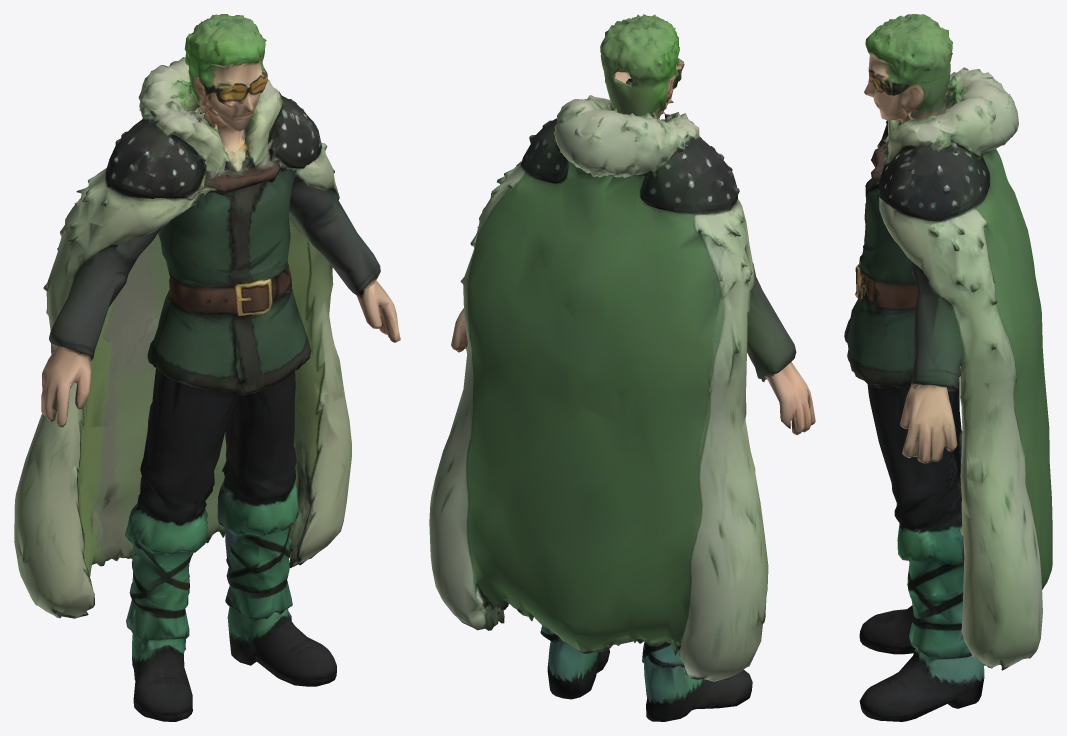
The model's file is zoro-elbaf.opt.glb.
The picture shows the model from 3 angles, left to right: view 1: azimuth 30°, elevation 25°; view 2: azimuth 150°, elevation 25°; view 3: azimuth 270°, elevation 25°; orthographic projection.
Bounding box in the file's own units: 1.1 × 2 × 0.5741.
Materials: 1 (1 with a texture image).
